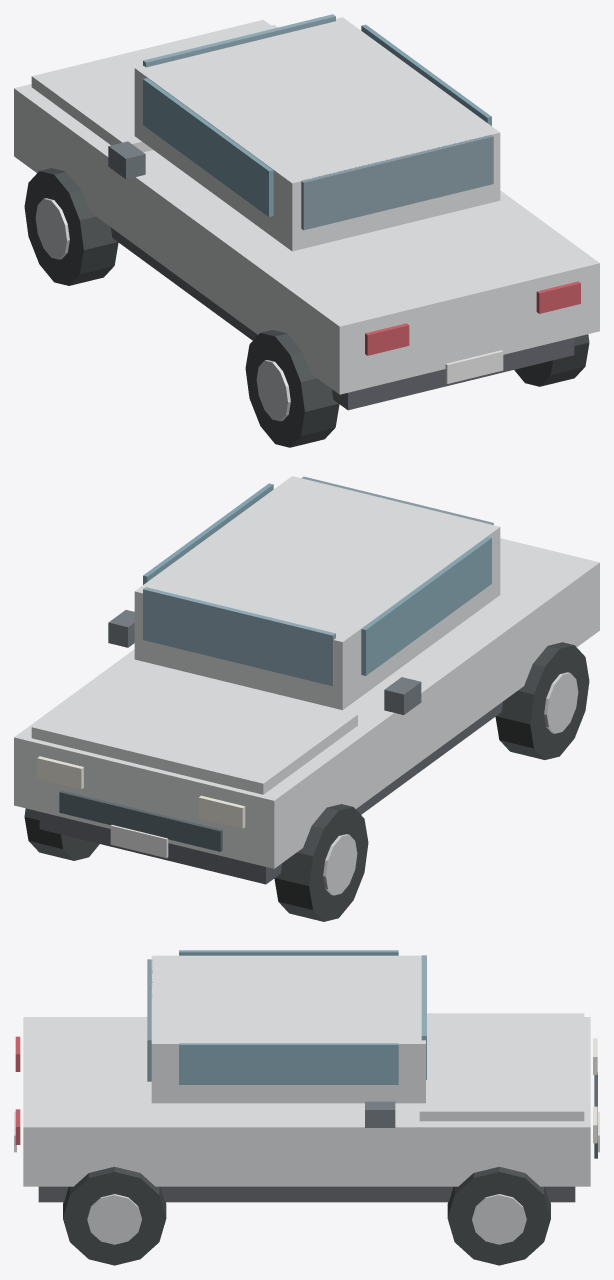
3 views of the same model, one above another, from view 1: azimuth 30°, elevation 25°; view 2: azimuth 150°, elevation 25°; view 3: azimuth 270°, elevation 25° (orthographic). The views are drawn at different scales.
Visible parts, largest first — view 1: body_0001, roof_0018, rear_window_0020, hood_0002, side_window_0021, wheel_tire_0006, wheel_tire_0004, chassis_0000, wheel_tire_0013, windshield_0019, wheel_rim_0005, wheel_rim_0007 (+5 smaller); view 2: body_0001, roof_0018, hood_0002, windshield_0019, side_window_0021, wheel_tire_0006, wheel_tire_0004, chassis_0000, front_grille_0003, wheel_tire_0011, wheel_rim_0007, wheel_rim_0005 (+6 smaller); view 3: body_0001, roof_0018, hood_0002, side_window_0022, wheel_tire_0011, wheel_tire_0013, chassis_0000, wheel_rim_0012, wheel_rim_0014, side_window_0021, mirror_0017, rear_window_0020 (+1 smaller).
Part boxes in pixels (bbox=[...]): body_0001: bbox=[14, 25, 599, 394]; roof_0018: bbox=[134, 17, 500, 251]; rear_window_0020: bbox=[301, 135, 493, 230]; hood_0002: bbox=[31, 19, 274, 152]; side_window_0021: bbox=[143, 78, 273, 216]; wheel_tire_0006: bbox=[245, 330, 339, 447]; wheel_tire_0004: bbox=[24, 168, 118, 285]; chassis_0000: bbox=[111, 227, 574, 410]; wheel_tire_0013: bbox=[514, 334, 589, 386]; windshield_0019: bbox=[143, 14, 335, 67]; wheel_rim_0005: bbox=[35, 198, 69, 259]; wheel_rim_0007: bbox=[256, 360, 290, 421]; body_0001: bbox=[14, 538, 599, 868]; roof_0018: bbox=[134, 476, 500, 710]; hood_0002: bbox=[31, 658, 357, 794]; windshield_0019: bbox=[143, 587, 335, 686]; side_window_0021: bbox=[361, 536, 491, 675]; wheel_tire_0006: bbox=[495, 642, 589, 759]; wheel_tire_0004: bbox=[274, 804, 368, 921]; chassis_0000: bbox=[39, 702, 502, 884]; front_grille_0003: bbox=[59, 790, 222, 851]; wheel_tire_0011: bbox=[24, 808, 99, 860]; wheel_rim_0007: bbox=[544, 672, 578, 733]; wheel_rim_0005: bbox=[323, 834, 357, 895]; body_0001: bbox=[23, 1017, 590, 1186]; roof_0018: bbox=[151, 955, 425, 1103]; hood_0002: bbox=[419, 1013, 584, 1121]; side_window_0022: bbox=[179, 1043, 398, 1084]; wheel_tire_0011: bbox=[447, 1166, 550, 1265]; wheel_tire_0013: bbox=[63, 1166, 166, 1265]; chassis_0000: bbox=[38, 1186, 575, 1202]; wheel_rim_0012: bbox=[472, 1194, 526, 1244]; wheel_rim_0014: bbox=[87, 1194, 141, 1244]; side_window_0021: bbox=[179, 950, 398, 955]; mirror_0017: bbox=[365, 1101, 395, 1127]; rear_window_0020: bbox=[147, 959, 152, 1081].
Size of the model in its own units: 1.95 by 1.52 by 3.85.
